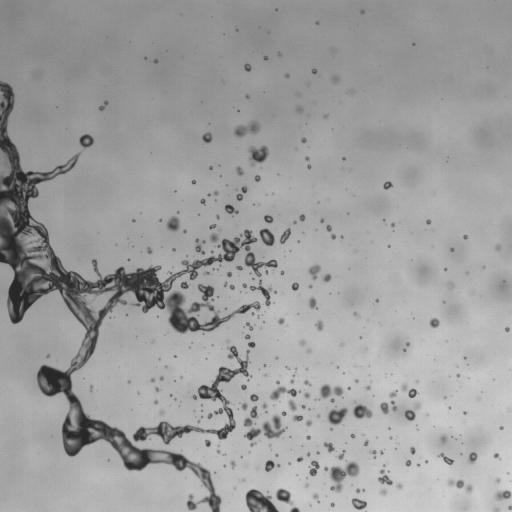droplet: (323, 459, 359, 492), (247, 145, 268, 167), (327, 405, 348, 425), (351, 400, 372, 419), (166, 210, 180, 232), (259, 228, 274, 246), (308, 263, 321, 280), (494, 489, 511, 501), (194, 238, 205, 256), (351, 498, 367, 510), (308, 459, 319, 476), (224, 204, 238, 217), (265, 460, 280, 472), (308, 295, 318, 310), (379, 400, 389, 414), (467, 451, 477, 464), (11, 94, 22, 105), (238, 115, 249, 126), (5, 127, 16, 138), (242, 132, 253, 143), (244, 166, 255, 177), (242, 175, 253, 186), (233, 176, 244, 187), (232, 226, 243, 237), (199, 228, 210, 239), (203, 241, 214, 252), (250, 241, 261, 252), (264, 246, 275, 257), (61, 260, 72, 271), (0, 262, 11, 273), (124, 263, 135, 274), (155, 270, 166, 281), (86, 271, 97, 282), (299, 273, 310, 284), (30, 299, 41, 310), (23, 307, 34, 318), (160, 307, 171, 318), (309, 309, 320, 320), (236, 342, 247, 353), (227, 358, 238, 369), (56, 361, 67, 372), (309, 385, 320, 396), (55, 391, 66, 402), (258, 391, 269, 402), (396, 391, 407, 402), (402, 397, 413, 408), (322, 400, 333, 411), (368, 401, 379, 412), (85, 408, 96, 419), (233, 411, 244, 422), (343, 411, 354, 422), (217, 414, 228, 425), (169, 416, 180, 427), (252, 417, 263, 428), (234, 423, 245, 434), (150, 434, 161, 445), (96, 437, 107, 448), (305, 440, 316, 451), (168, 441, 179, 452), (327, 456, 338, 467), (299, 460, 310, 471), (190, 474, 201, 485), (341, 474, 352, 485), (314, 319, 324, 331), (202, 132, 212, 143), (429, 317, 439, 328), (0, 305, 10, 316), (238, 401, 248, 411), (336, 449, 345, 460), (331, 74, 340, 84), (235, 166, 244, 176), (321, 273, 331, 282), (312, 492, 320, 503), (0, 289, 8, 300), (291, 414, 303, 421), (264, 214, 273, 223), (244, 322, 253, 331), (258, 123, 267, 132), (20, 163, 29, 172), (219, 209, 228, 218), (112, 302, 121, 311), (352, 368, 361, 377), (234, 372, 243, 381), (216, 381, 225, 390), (70, 385, 79, 394), (280, 392, 289, 401), (293, 394, 302, 403), (213, 399, 222, 408), (395, 408, 404, 417), (279, 416, 288, 425), (106, 418, 115, 427), (200, 419, 209, 428), (54, 430, 63, 439), (256, 432, 265, 441), (209, 433, 218, 442), (354, 435, 363, 444), (135, 440, 144, 449), (184, 451, 193, 460), (344, 453, 353, 462), (337, 460, 346, 469), (497, 482, 506, 491), (328, 490, 337, 499), (271, 497, 280, 506), (218, 502, 227, 511), (383, 181, 393, 189), (250, 393, 258, 402), (439, 434, 448, 442), (368, 450, 376, 459), (505, 422, 511, 433), (200, 505, 211, 511), (346, 88, 354, 96), (295, 105, 303, 113), (291, 282, 299, 290), (353, 311, 361, 319), (204, 439, 212, 447), (395, 481, 403, 489), (379, 488, 387, 496), (303, 379, 312, 386), (229, 460, 236, 469), (244, 63, 251, 71), (146, 246, 153, 254), (277, 317, 284, 325), (298, 339, 306, 346), (247, 341, 255, 348), (305, 419, 312, 427), (493, 453, 501, 460), (493, 477, 500, 485), (359, 347, 368, 353), (363, 439, 369, 448), (494, 244, 501, 251), (1, 76, 8, 83), (7, 112, 14, 119), (227, 127, 234, 134), (233, 135, 240, 142), (9, 136, 16, 143), (254, 142, 261, 149), (75, 143, 82, 150), (15, 145, 22, 152), (66, 151, 73, 158), (264, 155, 271, 162), (254, 160, 261, 167), (34, 182, 41, 189), (205, 196, 212, 203), (231, 200, 238, 207), (28, 208, 35, 215), (162, 215, 169, 222), (160, 220, 167, 227), (262, 221, 269, 228), (177, 222, 184, 229), (166, 228, 173, 235), (251, 230, 258, 237), (273, 233, 280, 240), (48, 239, 55, 246), (203, 251, 210, 258), (196, 253, 203, 260), (141, 263, 148, 270), (258, 265, 265, 272), (273, 266, 280, 273), (108, 267, 115, 274), (316, 271, 323, 278), (52, 288, 59, 295), (40, 293, 47, 300), (302, 298, 309, 305), (259, 303, 266, 310), (151, 304, 158, 311), (101, 316, 108, 323), (168, 326, 175, 333), (242, 326, 249, 333), (95, 337, 102, 344), (94, 341, 101, 348), (89, 353, 96, 360), (157, 360, 164, 367), (33, 364, 40, 371), (159, 368, 166, 375), (211, 369, 218, 376), (69, 372, 76, 379), (154, 379, 161, 386), (359, 379, 366, 386), (284, 382, 291, 389), (328, 382, 335, 389), (270, 383, 277, 390), (302, 384, 309, 391), (245, 388, 252, 395), (152, 391, 159, 398), (328, 391, 335, 398), (383, 396, 390, 403), (202, 397, 209, 404), (266, 398, 273, 405), (303, 398, 310, 405), (254, 399, 261, 406), (247, 400, 254, 407), (282, 403, 289, 410), (327, 403, 334, 410), (294, 408, 301, 415), (243, 409, 250, 416), (286, 409, 293, 416), (321, 411, 328, 418), (360, 415, 367, 422), (311, 417, 318, 424), (189, 419, 196, 426), (151, 420, 158, 427), (178, 420, 185, 427), (324, 420, 331, 427), (116, 423, 123, 430), (332, 423, 339, 430), (243, 425, 250, 432), (188, 430, 195, 437), (126, 434, 133, 441), (269, 436, 276, 443), (242, 437, 249, 444), (367, 442, 374, 449), (81, 444, 88, 451), (58, 447, 65, 454), (109, 447, 116, 454), (405, 452, 412, 459), (310, 453, 317, 460), (116, 457, 123, 464), (234, 457, 241, 464), (355, 459, 362, 466), (145, 462, 152, 469), (167, 463, 174, 470), (120, 465, 127, 472), (183, 466, 190, 473), (316, 467, 323, 474), (130, 468, 137, 475), (324, 470, 331, 477), (209, 473, 216, 480), (452, 474, 459, 481), (328, 478, 335, 485), (440, 478, 447, 485), (307, 486, 314, 493), (458, 486, 465, 493), (214, 488, 221, 495), (203, 489, 210, 496), (356, 492, 363, 499), (293, 501, 300, 508), (350, 431, 356, 439), (254, 175, 260, 182), (200, 198, 206, 205), (299, 214, 305, 221), (330, 232, 336, 239), (226, 270, 232, 277), (154, 386, 161, 392), (158, 408, 164, 415), (296, 456, 303, 462), (405, 459, 411, 466), (410, 446, 415, 454), (311, 68, 317, 74), (323, 113, 329, 119), (300, 137, 306, 143), (229, 284, 235, 290), (244, 333, 250, 339), (209, 224, 216, 229), (326, 224, 331, 231), (280, 411, 287, 416), (238, 478, 245, 483), (284, 72, 289, 78), (462, 234, 468, 239), (257, 314, 263, 319), (339, 342, 345, 347), (306, 347, 311, 353), (299, 404, 305, 409), (507, 496, 511, 503), (183, 507, 190, 511), (243, 507, 250, 511), (329, 507, 336, 511), (304, 156, 309, 161), (191, 179, 196, 184), (426, 219, 431, 224), (390, 222, 395, 227), (285, 365, 290, 370), (150, 377, 155, 382), (354, 378, 359, 383), (153, 399, 158, 404), (304, 482, 309, 487), (149, 55, 154, 60), (282, 68, 287, 73), (288, 71, 293, 76), (288, 74, 293, 79), (283, 77, 288, 82), (8, 81, 13, 86), (248, 92, 253, 97), (103, 95, 108, 100), (104, 104, 109, 109), (199, 130, 204, 135), (78, 131, 83, 136), (88, 131, 93, 136), (300, 132, 305, 137), (305, 136, 310, 141), (74, 137, 79, 142), (210, 137, 215, 142), (198, 138, 203, 143), (203, 141, 208, 146), (301, 142, 306, 147), (88, 144, 93, 149), (308, 154, 313, 159), (307, 159, 312, 164), (58, 160, 63, 165), (303, 160, 308, 165), (73, 163, 78, 168), (42, 167, 47, 172), (66, 170, 71, 175), (232, 170, 237, 175), (57, 173, 62, 178), (249, 175, 254, 180), (216, 186, 221, 191), (208, 188, 213, 193), (202, 194, 207, 199), (27, 196, 32, 201), (298, 209, 303, 214), (176, 213, 181, 218), (320, 213, 325, 218), (304, 214, 309, 219), (294, 215, 299, 220), (259, 216, 264, 221), (212, 218, 217, 223), (209, 219, 214, 224), (296, 219, 301, 224), (386, 219, 391, 224), (321, 222, 326, 227), (423, 223, 428, 228), (281, 226, 286, 231), (211, 227, 216, 232), (239, 228, 244, 233), (330, 228, 335, 233), (326, 231, 331, 236), (335, 234, 340, 239), (198, 235, 203, 240), (228, 236, 233, 241), (191, 241, 196, 246), (248, 242, 253, 247), (265, 244, 270, 249), (150, 245, 155, 250), (200, 245, 205, 250), (142, 248, 147, 253), (220, 249, 225, 254), (54, 251, 59, 256), (213, 252, 218, 257), (181, 255, 186, 260), (254, 257, 259, 262), (263, 257, 268, 262), (188, 258, 193, 263), (276, 260, 281, 265), (316, 260, 321, 265), (309, 261, 314, 266), (96, 263, 101, 268), (88, 264, 93, 269), (181, 264, 186, 269), (267, 266, 272, 271), (75, 268, 80, 273), (171, 268, 176, 273), (329, 271, 334, 276), (307, 273, 312, 278), (328, 278, 333, 283), (309, 279, 314, 284), (262, 283, 267, 288), (287, 286, 292, 291), (268, 290, 273, 295), (268, 296, 273, 301), (314, 301, 319, 306), (61, 302, 66, 307), (268, 303, 273, 308), (249, 306, 254, 311), (245, 309, 250, 314), (105, 311, 110, 316), (68, 312, 73, 317), (235, 312, 240, 317), (279, 313, 284, 318), (431, 313, 436, 318), (275, 314, 280, 319), (349, 314, 354, 319), (435, 314, 440, 319), (71, 315, 76, 320), (5, 316, 10, 321), (228, 317, 233, 322), (73, 318, 78, 323), (283, 318, 288, 323), (312, 318, 317, 323), (17, 320, 22, 325), (273, 320, 278, 325), (438, 320, 443, 325), (77, 322, 82, 327), (218, 322, 223, 327), (425, 322, 430, 327), (279, 323, 284, 328), (322, 324, 327, 329), (97, 325, 102, 330), (312, 325, 317, 330), (432, 326, 437, 331), (213, 327, 218, 332), (81, 328, 86, 333), (195, 329, 200, 334), (298, 334, 303, 339), (247, 337, 252, 342), (76, 341, 81, 346), (244, 344, 249, 349), (302, 344, 307, 349), (405, 345, 410, 350), (248, 346, 253, 351), (225, 349, 230, 354), (71, 351, 76, 356), (240, 355, 245, 360), (235, 363, 240, 368), (289, 363, 294, 368), (245, 366, 250, 371), (261, 367, 266, 372), (289, 368, 294, 373), (455, 368, 460, 373), (451, 374, 456, 379), (211, 375, 216, 380), (293, 375, 298, 380), (154, 376, 159, 381), (307, 377, 312, 382), (364, 380, 369, 385), (197, 381, 202, 386), (206, 382, 211, 387), (245, 382, 250, 387), (369, 383, 374, 388), (395, 384, 400, 389), (293, 385, 298, 390), (341, 385, 346, 390), (406, 385, 411, 390), (389, 386, 394, 391), (369, 387, 374, 392), (403, 391, 408, 396), (43, 394, 48, 399), (325, 395, 330, 400), (392, 396, 397, 401), (215, 397, 220, 402), (271, 398, 276, 403), (377, 398, 382, 403), (173, 400, 178, 405), (360, 401, 365, 406), (419, 402, 424, 407), (155, 403, 160, 408), (387, 403, 392, 408), (408, 405, 413, 410), (246, 406, 251, 411), (231, 408, 236, 413), (255, 408, 260, 413), (377, 408, 382, 413), (413, 409, 418, 414), (195, 410, 200, 415), (202, 411, 207, 416), (232, 414, 237, 419), (60, 416, 65, 421), (159, 416, 164, 421), (413, 416, 418, 421), (301, 417, 306, 422), (402, 417, 407, 422), (409, 419, 414, 424), (171, 422, 176, 427), (328, 422, 333, 427), (279, 423, 284, 428), (57, 424, 62, 429), (387, 430, 392, 435), (279, 432, 284, 437), (354, 432, 359, 437), (435, 433, 440, 438), (173, 435, 178, 440), (220, 438, 225, 443), (359, 438, 364, 443), (437, 439, 442, 444), (455, 439, 460, 444), (200, 441, 205, 446), (249, 446, 254, 451), (322, 446, 327, 451), (471, 447, 476, 452), (405, 448, 410, 453), (489, 450, 494, 455), (375, 451, 380, 456), (295, 452, 300, 457), (446, 453, 451, 458), (464, 453, 469, 458), (401, 458, 406, 463), (474, 458, 479, 463), (272, 459, 277, 464), (419, 459, 424, 464), (410, 461, 415, 466), (260, 462, 265, 467), (201, 463, 206, 468), (226, 463, 231, 468), (377, 464, 382, 469), (383, 466, 388, 471), (378, 472, 383, 477), (491, 473, 496, 478), (387, 474, 392, 479), (459, 475, 464, 480), (211, 480, 216, 485), (463, 480, 468, 485), (391, 481, 396, 486), (281, 484, 286, 489), (451, 484, 456, 489), (254, 485, 259, 490), (351, 485, 356, 490), (401, 485, 406, 490), (245, 486, 250, 491), (471, 486, 476, 491), (241, 491, 246, 496), (262, 491, 267, 496), (378, 494, 383, 499), (288, 495, 293, 500), (183, 496, 188, 501), (191, 497, 196, 502), (241, 498, 246, 503), (311, 498, 316, 503), (203, 501, 208, 506), (277, 51, 281, 57), (505, 326, 509, 332), (306, 451, 310, 457), (508, 503, 511, 510), (360, 9, 364, 14), (263, 56, 268, 60), (153, 59, 158, 63), (245, 94, 249, 99), (209, 165, 213, 170), (307, 164, 311, 169), (215, 214, 219, 219), (320, 218, 324, 223), (182, 229, 187, 233), (450, 247, 454, 252), (280, 270, 284, 275), (223, 281, 227, 286), (470, 290, 474, 295), (46, 353, 50, 358), (163, 365, 168, 369), (263, 373, 268, 377), (159, 375, 163, 380), (330, 398, 335, 402), (316, 413, 320, 418), (306, 435, 310, 440), (379, 450, 383, 455), (330, 502, 334, 507), (315, 21, 319, 25), (342, 156, 346, 160), (158, 218, 162, 222), (308, 284, 312, 288), (375, 298, 379, 302), (456, 373, 460, 377), (415, 379, 419, 383), (507, 408, 511, 412), (329, 427, 333, 431), (499, 426, 503, 430), (424, 459, 428, 463), (462, 411, 467, 414), (316, 450, 319, 455), (508, 328, 511, 333), (508, 487, 511, 492), (191, 508, 196, 511), (358, 508, 363, 511), (131, 219, 135, 222), (185, 254, 188, 258), (482, 265, 485, 269), (444, 267, 447, 271), (465, 271, 468, 275), (358, 336, 362, 339), (151, 339, 154, 343), (173, 354, 177, 357), (263, 363, 266, 367), (336, 365, 339, 369), (305, 367, 308, 371), (180, 375, 183, 379), (127, 380, 131, 383), (347, 386, 350, 390), (169, 393, 172, 397), (443, 395, 446, 399), (174, 397, 177, 401), (360, 433, 364, 436), (275, 453, 278, 457), (107, 458, 110, 462), (288, 461, 291, 465), (416, 463, 420, 466), (222, 464, 226, 467), (233, 486, 236, 490), (235, 28, 238, 31), (412, 42, 415, 45), (144, 56, 147, 59), (294, 147, 297, 150), (219, 174, 222, 177), (174, 190, 177, 193), (214, 199, 217, 202), (297, 240, 300, 243), (387, 244, 390, 247), (172, 248, 175, 251), (127, 258, 130, 261), (251, 277, 254, 280), (442, 300, 445, 303), (224, 307, 227, 310), (156, 315, 159, 318), (262, 320, 265, 323), (285, 324, 288, 327), (259, 326, 262, 329), (445, 339, 448, 342), (275, 356, 278, 359), (463, 356, 466, 359), (342, 371, 345, 374), (137, 391, 140, 394), (372, 394, 375, 397), (448, 406, 451, 409), (200, 409, 203, 412), (389, 436, 392, 439), (394, 447, 397, 450), (213, 471, 216, 474), (305, 476, 308, 479), (274, 4, 277, 7), (271, 7, 274, 10), (277, 7, 280, 10), (273, 10, 276, 13), (361, 13, 364, 16), (312, 19, 315, 22), (318, 20, 321, 23), (313, 23, 316, 26), (235, 25, 238, 28), (232, 26, 235, 29), (235, 31, 238, 34), (412, 39, 415, 42), (408, 42, 411, 45), (412, 45, 415, 48), (279, 50, 282, 53), (264, 52, 267, 55), (267, 55, 270, 58), (140, 56, 143, 59), (260, 56, 263, 59), (157, 58, 160, 61), (143, 59, 146, 62), (263, 59, 266, 62), (246, 60, 249, 63), (152, 62, 155, 65), (313, 65, 316, 68), (241, 66, 244, 69), (250, 67, 253, 70), (243, 69, 246, 72), (315, 71, 318, 74), (310, 72, 313, 75), (242, 95, 245, 98), (233, 108, 236, 111), (239, 108, 242, 111), (97, 109, 100, 112), (236, 111, 239, 114), (323, 111, 326, 114), (327, 115, 330, 118), (306, 153, 309, 156), (341, 153, 344, 156), (301, 156, 304, 159), (345, 156, 348, 159), (444, 157, 447, 160), (339, 158, 342, 161), (343, 159, 346, 162), (304, 164, 307, 167), (310, 164, 313, 167), (205, 166, 208, 169), (212, 166, 215, 169), (208, 169, 211, 172), (253, 172, 256, 175), (259, 175, 262, 178), (220, 176, 223, 179), (194, 177, 197, 180), (387, 178, 390, 181), (252, 179, 255, 182), (258, 179, 261, 182), (224, 180, 227, 183), (188, 181, 191, 184), (195, 181, 198, 184), (390, 181, 393, 184), (191, 183, 194, 186), (380, 183, 383, 186), (388, 186, 391, 189), (171, 187, 174, 190), (205, 190, 208, 193), (175, 191, 178, 194), (268, 191, 271, 194), (214, 195, 217, 198), (198, 196, 201, 199), (239, 199, 242, 202), (319, 200, 322, 203), (197, 201, 200, 204), (204, 201, 207, 204), (254, 201, 257, 204), (200, 203, 203, 206), (251, 205, 254, 208), (238, 210, 241, 213), (231, 211, 234, 214), (199, 212, 202, 215), (263, 212, 266, 215), (267, 212, 270, 215), (157, 215, 160, 218), (196, 215, 199, 218), (383, 215, 386, 218), (425, 216, 428, 219), (272, 217, 275, 220), (429, 217, 432, 220), (135, 218, 138, 221), (317, 218, 320, 221), (128, 219, 131, 222), (289, 220, 292, 223), (380, 220, 383, 223), (132, 221, 135, 224), (423, 221, 426, 224), (394, 222, 397, 225), (387, 223, 390, 226), (428, 223, 431, 226), (206, 224, 209, 227), (392, 226, 395, 229), (247, 227, 250, 230), (186, 228, 189, 231), (289, 228, 292, 231), (391, 231, 394, 234), (463, 231, 466, 234), (183, 232, 186, 235), (342, 233, 345, 236), (236, 234, 239, 237), (288, 234, 291, 237), (467, 234, 470, 237), (460, 236, 463, 239), (192, 237, 195, 240), (299, 238, 302, 241), (464, 238, 467, 241), (284, 239, 287, 242), (384, 243, 387, 246), (171, 244, 174, 247), (390, 244, 393, 247), (450, 244, 453, 247), (168, 247, 171, 250), (175, 247, 178, 250), (387, 247, 390, 250), (453, 247, 456, 250), (447, 248, 450, 251), (170, 250, 173, 253), (290, 250, 293, 253), (450, 251, 453, 254), (125, 255, 128, 258), (128, 255, 131, 258), (92, 256, 95, 259), (270, 256, 273, 259), (480, 262, 483, 265), (443, 264, 446, 267), (440, 267, 443, 270), (484, 267, 487, 270), (446, 268, 449, 271), (283, 271, 286, 274), (78, 272, 81, 275), (167, 273, 170, 276), (280, 274, 283, 277), (289, 282, 292, 285), (297, 286, 300, 289), (272, 287, 275, 290), (291, 289, 294, 292), (276, 290, 279, 293), (373, 296, 376, 299), (442, 297, 445, 300), (378, 298, 381, 301), (439, 300, 442, 303), (373, 301, 376, 304), (442, 303, 445, 306), (312, 307, 315, 310), (353, 308, 356, 311), (350, 310, 353, 313), (127, 312, 130, 315), (240, 312, 243, 315), (411, 313, 414, 316), (124, 315, 127, 318), (259, 315, 262, 318), (414, 316, 417, 319), (264, 319, 267, 322), (242, 322, 245, 325), (249, 322, 252, 325), (260, 322, 263, 325), (245, 325, 248, 328), (501, 327, 504, 330), (210, 329, 213, 332), (203, 330, 206, 333), (359, 332, 362, 335), (359, 338, 362, 341), (404, 339, 407, 342), (207, 342, 210, 345), (409, 342, 412, 345), (190, 343, 193, 346), (229, 343, 232, 346), (254, 343, 257, 346), (212, 345, 215, 348), (403, 345, 406, 348), (185, 346, 188, 349), (400, 350, 403, 353), (403, 351, 406, 354), (44, 352, 47, 355), (175, 352, 178, 355), (247, 352, 250, 355), (463, 353, 466, 356), (272, 354, 275, 357), (155, 355, 158, 358), (202, 355, 205, 358), (206, 355, 209, 358), (160, 356, 163, 359), (460, 356, 463, 359), (466, 356, 469, 359), (173, 357, 176, 360), (204, 359, 207, 362), (274, 359, 277, 362), (263, 360, 266, 363), (164, 361, 167, 364), (286, 363, 289, 366), (167, 364, 170, 367), (260, 364, 263, 367), (265, 364, 268, 367), (303, 364, 306, 367), (333, 365, 336, 368), (338, 366, 341, 369), (283, 367, 286, 370), (296, 368, 299, 371), (344, 371, 347, 374), (181, 373, 184, 376), (386, 373, 389, 376), (466, 373, 469, 376), (459, 374, 462, 377), (162, 375, 165, 378), (289, 375, 292, 378), (368, 375, 371, 378), (172, 376, 175, 379), (356, 376, 359, 379), (147, 377, 150, 380), (124, 378, 127, 381), (175, 378, 178, 381), (130, 380, 133, 383), (172, 381, 175, 384), (127, 383, 130, 386), (346, 383, 349, 386), (157, 385, 160, 388), (86, 386, 89, 389), (238, 386, 241, 389), (350, 386, 353, 389), (413, 386, 416, 389), (91, 387, 94, 390), (138, 388, 141, 391), (152, 388, 155, 391), (241, 389, 244, 392), (366, 389, 369, 392), (133, 391, 136, 394), (254, 391, 257, 394), (395, 391, 398, 394), (166, 393, 169, 396), (415, 393, 418, 396), (445, 393, 448, 396), (171, 395, 174, 398), (440, 395, 443, 398), (176, 397, 179, 400), (190, 397, 193, 400), (151, 398, 154, 401), (443, 398, 446, 401), (157, 399, 160, 402), (315, 399, 318, 402), (240, 400, 243, 403), (179, 402, 182, 405), (447, 402, 450, 405), (450, 405, 453, 408), (304, 406, 307, 409), (215, 407, 218, 410), (445, 407, 448, 410), (463, 408, 466, 411), (448, 409, 451, 412), (216, 412, 219, 415), (461, 413, 464, 416), (197, 415, 200, 418), (498, 423, 501, 426), (389, 424, 392, 427), (416, 425, 419, 428), (384, 426, 387, 429), (496, 426, 499, 429), (503, 426, 506, 429), (499, 429, 502, 432), (351, 430, 354, 433), (458, 430, 461, 433), (348, 431, 351, 434), (306, 432, 309, 435), (453, 434, 456, 437), (291, 435, 294, 438), (310, 435, 313, 438), (392, 435, 395, 438), (447, 435, 450, 438), (303, 436, 306, 439), (348, 436, 351, 439), (288, 437, 291, 440), (352, 437, 355, 440), (450, 437, 453, 440), (396, 438, 399, 441), (306, 439, 309, 442), (389, 439, 392, 442), (367, 441, 370, 444), (209, 443, 212, 446), (395, 444, 398, 447), (363, 445, 366, 448), (343, 446, 346, 449), (391, 447, 394, 450), (382, 449, 385, 452), (274, 450, 277, 453), (330, 450, 333, 453), (414, 450, 417, 453), (493, 450, 496, 453), (214, 451, 217, 454), (437, 451, 440, 454), (277, 452, 280, 455), (218, 453, 221, 456), (498, 454, 501, 457), (242, 455, 245, 458), (104, 456, 107, 459), (495, 457, 498, 460), (372, 458, 375, 461), (427, 458, 430, 461), (299, 460, 302, 463), (284, 461, 287, 464), (452, 461, 455, 464), (220, 462, 223, 465), (445, 463, 448, 466), (287, 464, 290, 467), (220, 465, 223, 468), (405, 465, 408, 468), (233, 466, 236, 469), (506, 468, 509, 471), (292, 472, 295, 475), (307, 473, 310, 476), (239, 475, 242, 478), (296, 475, 299, 478), (364, 488, 367, 491), (331, 489, 334, 492), (359, 489, 362, 492), (317, 497, 320, 500), (333, 501, 336, 504), (327, 503, 330, 506), (333, 504, 336, 507), (330, 506, 333, 509), (275, 8, 277, 11), (225, 184, 228, 186), (235, 188, 237, 191), (271, 192, 274, 194), (347, 212, 349, 215), (315, 228, 317, 231), (302, 231, 304, 234), (115, 243, 117, 246), (289, 249, 291, 252), (502, 280, 505, 282), (125, 313, 127, 316), (296, 312, 299, 314), (211, 344, 214, 346), (188, 346, 191, 348), (158, 357, 160, 360), (467, 377, 470, 379), (272, 404, 275, 406), (193, 409, 195, 412), (308, 408, 311, 410), (426, 413, 428, 416), (388, 427, 391, 429), (289, 435, 291, 438), (248, 450, 250, 453), (460, 452, 462, 455), (240, 455, 242, 458), (506, 472, 509, 474), (351, 483, 353, 486), (509, 471, 511, 474), (237, 109, 239, 111), (208, 122, 210, 124), (218, 164, 220, 166), (277, 173, 279, 175), (265, 193, 267, 195), (317, 201, 319, 203), (197, 213, 199, 215), (329, 292, 331, 294), (337, 292, 339, 294), (217, 296, 219, 298), (191, 341, 193, 343), (205, 357, 207, 359), (368, 365, 370, 367), (390, 373, 392, 375), (448, 375, 450, 377), (173, 380, 175, 382), (178, 405, 180, 407), (433, 425, 435, 427), (345, 442, 347, 444), (461, 442, 463, 444), (301, 445, 303, 447), (296, 474, 298, 476), (309, 504, 311, 506), (509, 509, 511, 511), (132, 245, 133, 247), (245, 292, 247, 293), (413, 317, 414, 319), (258, 368, 259, 370), (201, 404, 202, 406), (326, 407, 327, 409), (510, 479, 511, 481), (325, 495, 327, 496), (393, 230, 394, 231), (161, 246, 162, 247), (172, 266, 173, 267), (240, 291, 241, 292), (368, 374, 369, 375), (237, 408, 238, 409), (450, 426, 451, 427), (299, 479, 300, 480)
ligament: (133, 339, 252, 445), (275, 488, 300, 511), (314, 383, 343, 401), (233, 120, 260, 138), (447, 478, 473, 493), (404, 399, 421, 421), (400, 382, 419, 399), (436, 452, 454, 465), (388, 389, 398, 411), (236, 185, 248, 201), (279, 228, 290, 244), (323, 441, 336, 453), (289, 367, 298, 384), (98, 100, 108, 111), (216, 444, 226, 455), (363, 379, 372, 390), (402, 341, 410, 352), (261, 401, 267, 413), (207, 190, 218, 196), (355, 488, 365, 493), (288, 220, 297, 225), (202, 271, 211, 276), (382, 218, 387, 225), (89, 384, 93, 392), (492, 507, 500, 511), (353, 364, 362, 367), (451, 435, 456, 440), (252, 203, 260, 206), (339, 235, 343, 241), (212, 267, 218, 271), (415, 424, 419, 430), (268, 443, 271, 450), (475, 396, 480, 400), (109, 316, 115, 318), (376, 436, 378, 439), (364, 510, 367, 511), (330, 362, 332, 363), (459, 434, 461, 435)
